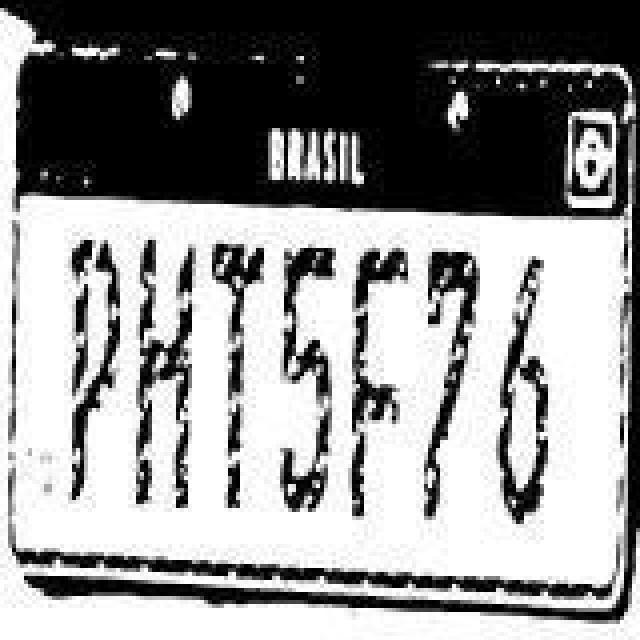5: (270, 210, 346, 518)
6: (496, 252, 576, 548)
7: (418, 250, 494, 550)
F: (344, 236, 416, 540)
H: (122, 206, 198, 530)
P: (48, 212, 128, 508)
T: (198, 212, 266, 524)
